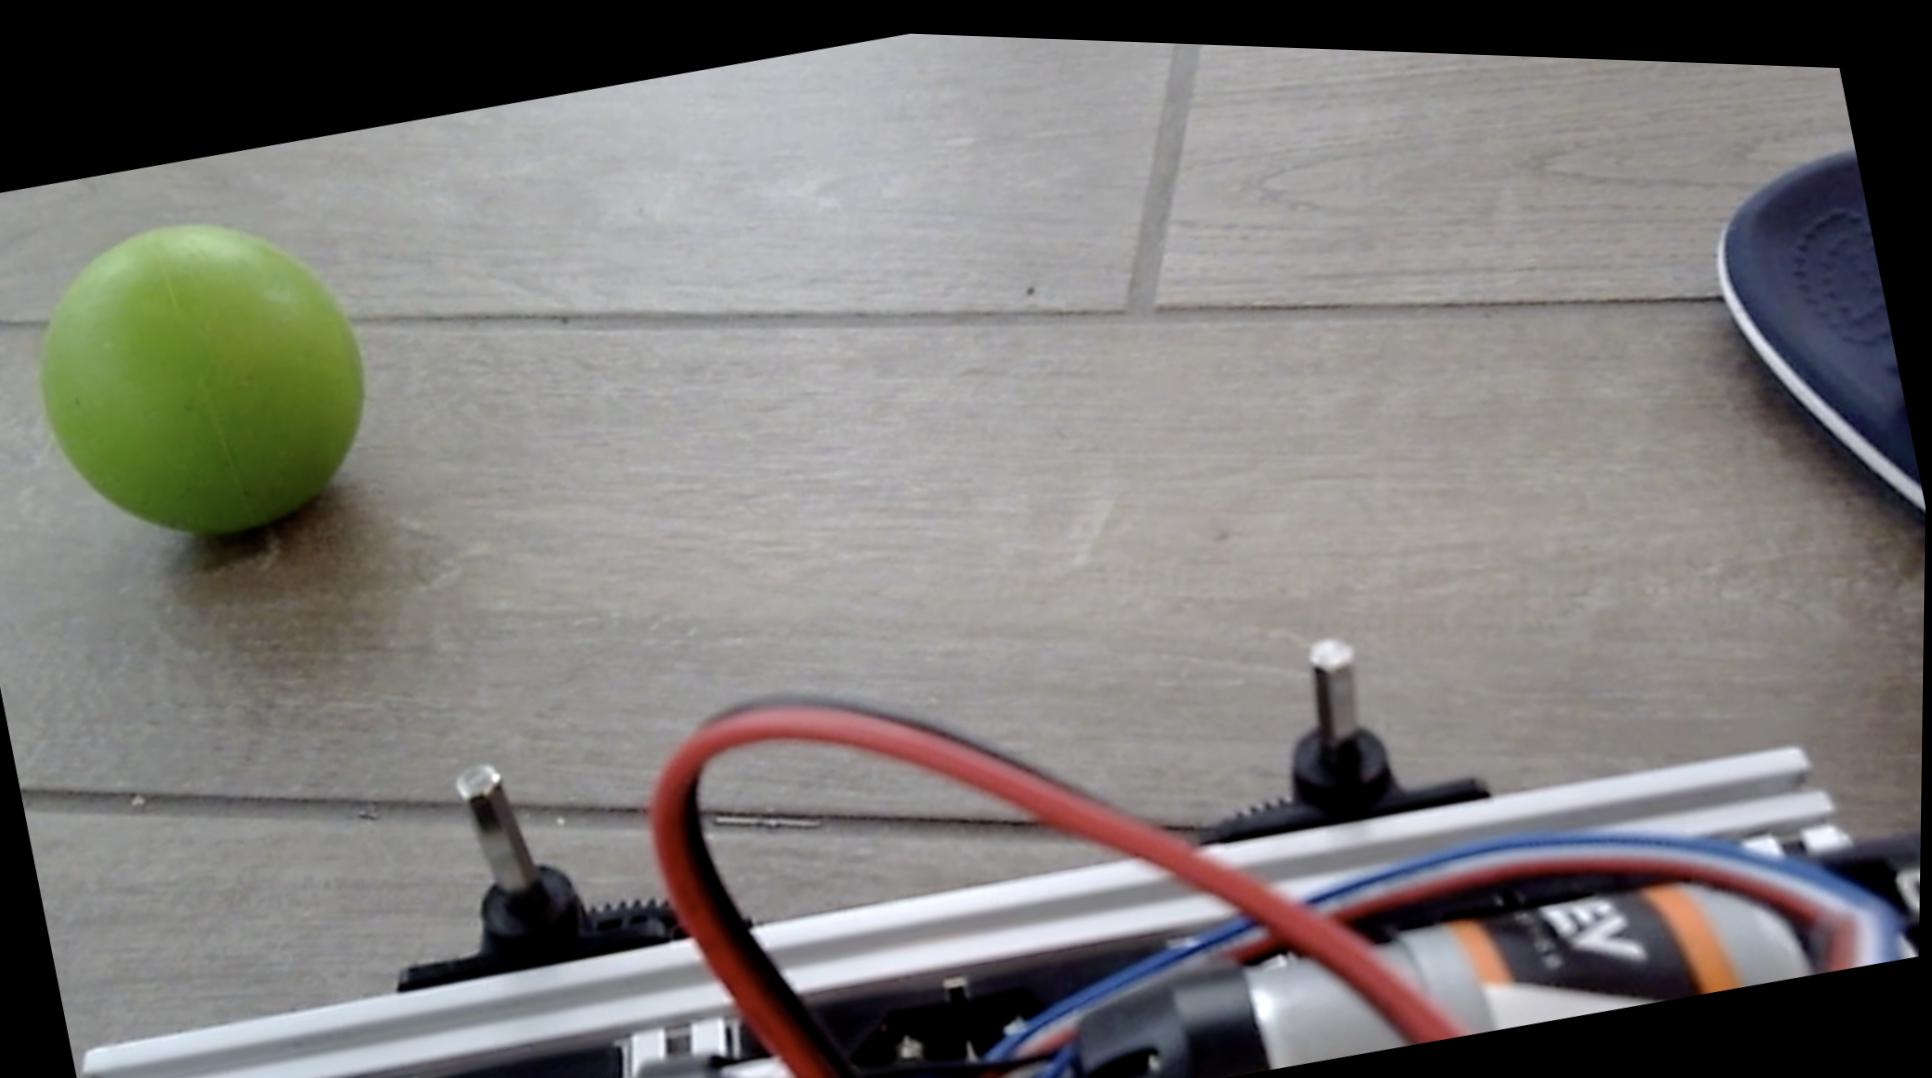greenball: (7, 179, 398, 575)
